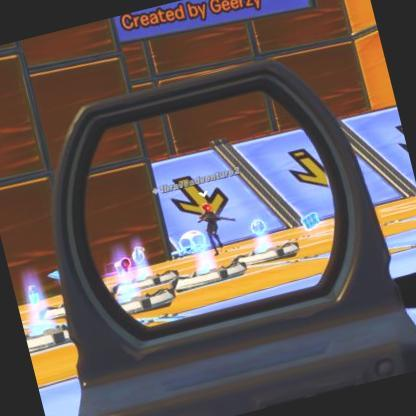person: (198, 202, 226, 248)
